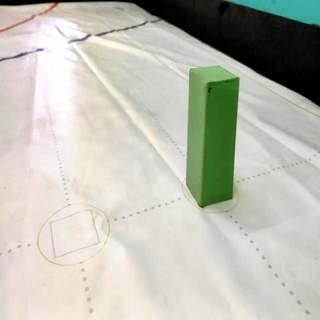greenbox: (186, 64, 240, 210)
